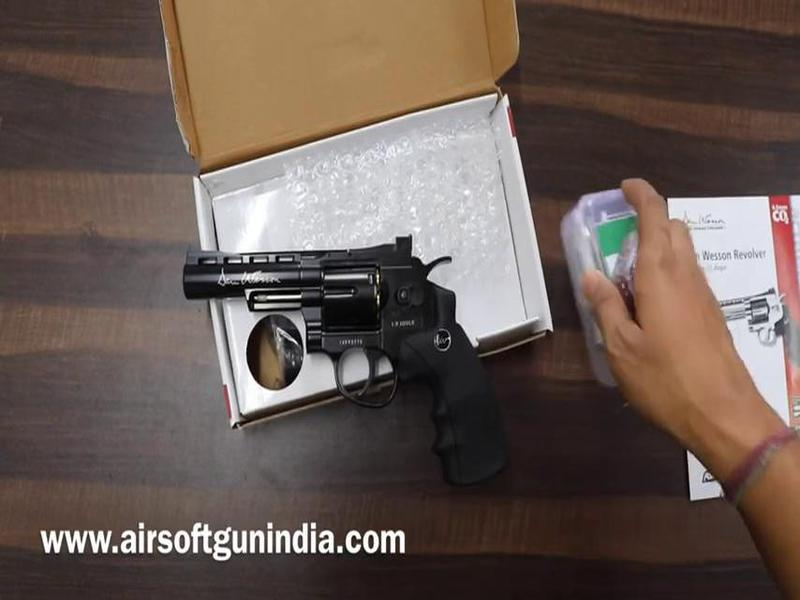Revolver: (180, 237, 517, 435)
